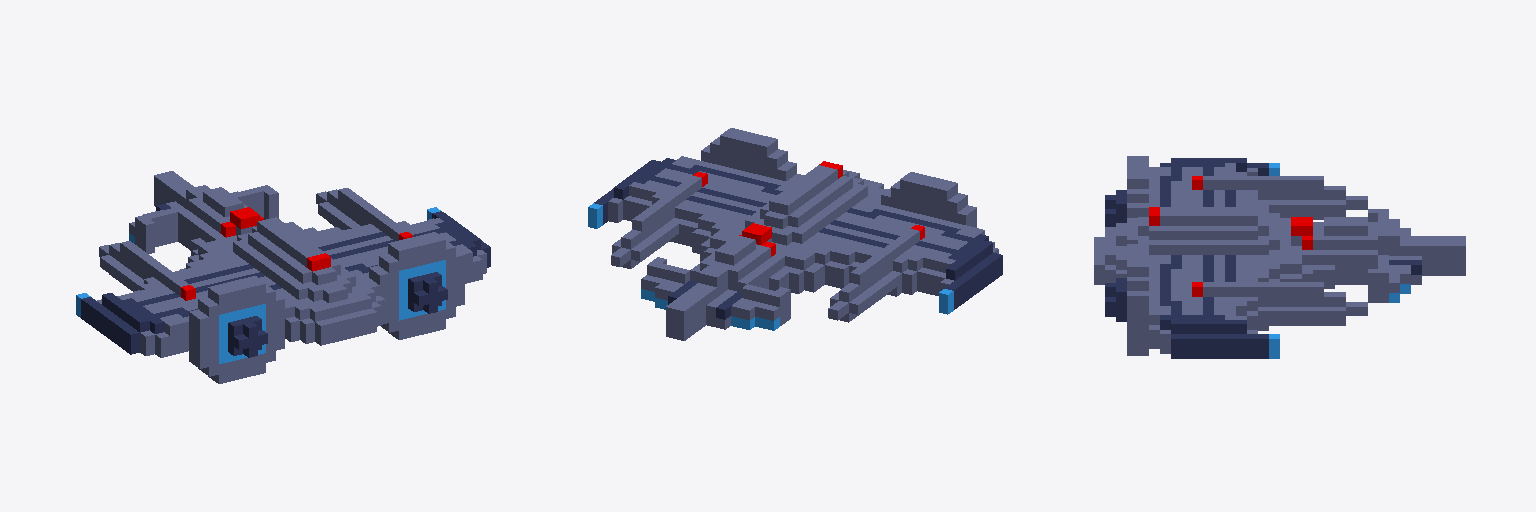
3 renders of one model, left to right at view 1: azimuth 30°, elevation 25°; view 2: azimuth 150°, elevation 25°; view 3: azimuth 270°, elevation 25°, orthographic.
Visible parts, largest first — view 1: object 1; view 2: object 1; view 3: object 1.
Boxes of the visible parts, x1=… form: object 1: x1=76, y1=171, x2=490, y2=383; object 1: x1=588, y1=128, x2=1002, y2=340; object 1: x1=1094, y1=156, x2=1465, y2=358.
Size of the model in its own units: 3.8 by 0.9 by 3.4.
1 materials, 1 textured.